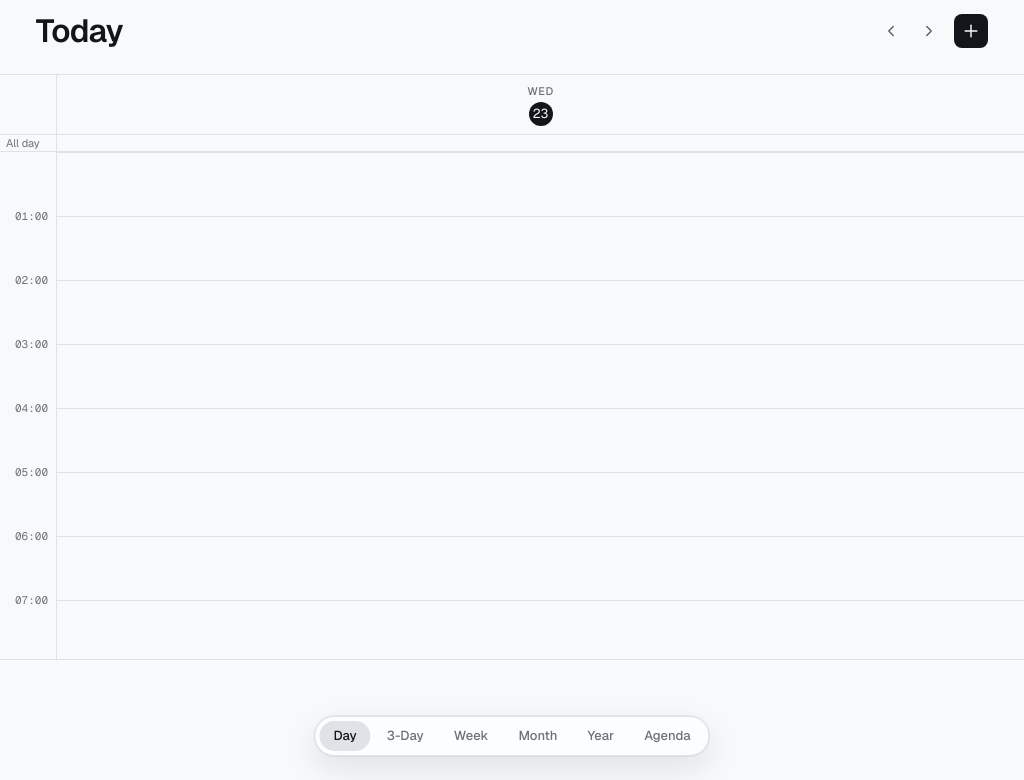
CalendarBoard › switching to Month view shows the task as a chip
Click the tab "Month".
click(538, 736)  # box [504, 721, 571, 751]
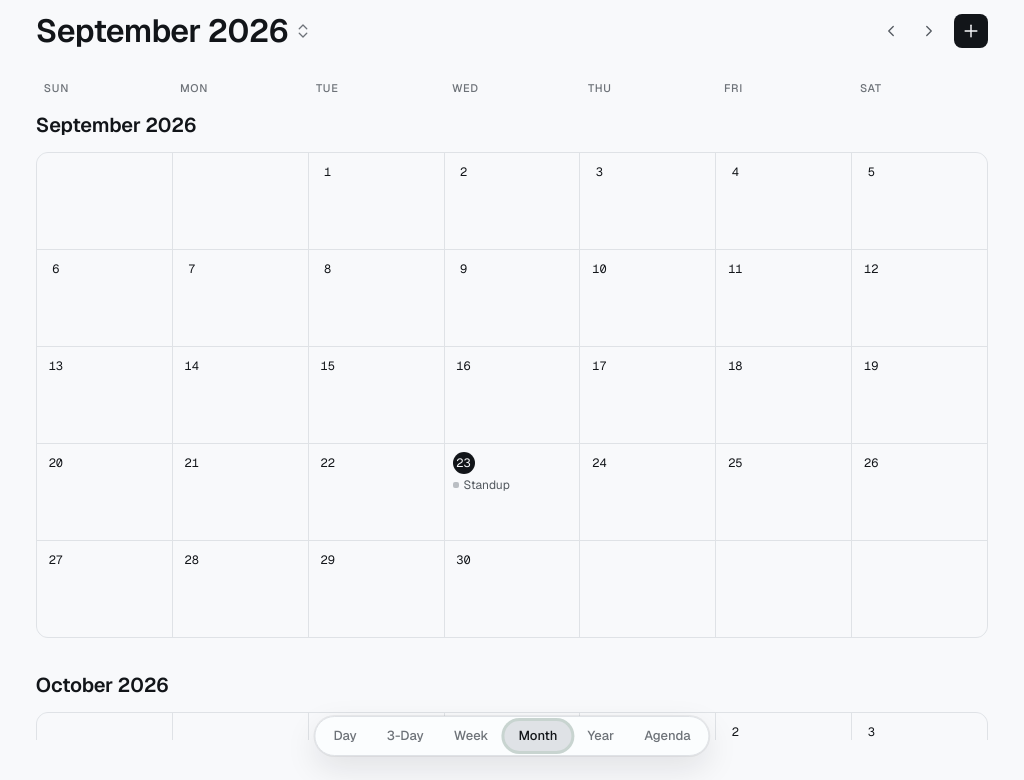
Expected: the text "Standup" is shown, [464, 477, 510, 494]
